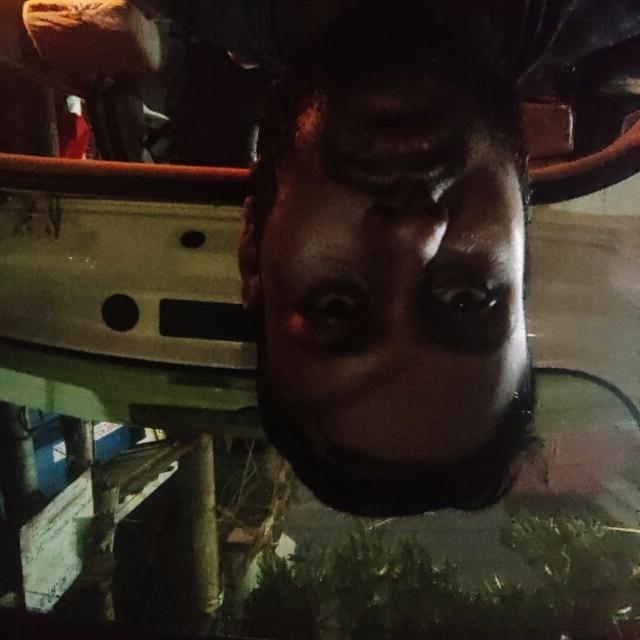Sad: (245, 73, 538, 513)
